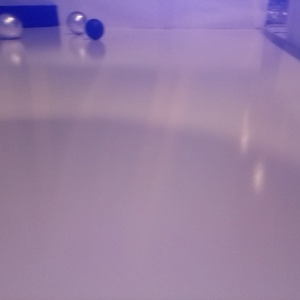zone: (110, 13, 300, 62)
